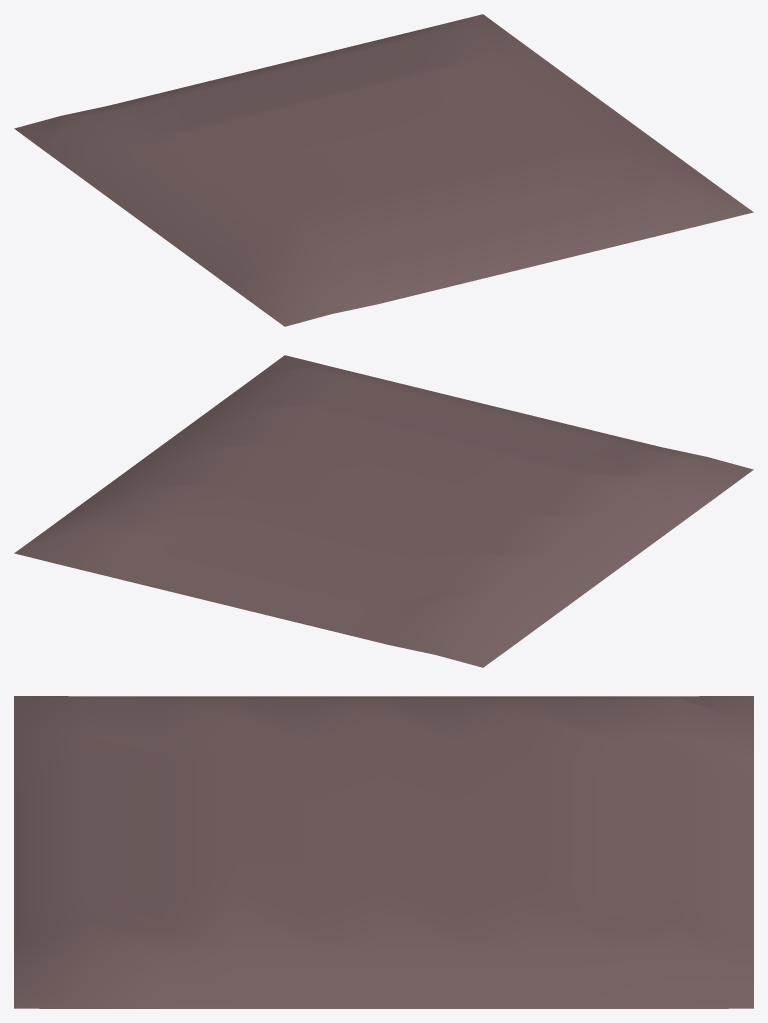
File: Dirt_Patch.fbx
3 views of the same model, one above another, from view 1: azimuth 30°, elevation 25°; view 2: azimuth 150°, elevation 25°; view 3: azimuth 270°, elevation 25° (orthographic). The views are drawn at different scales.
Visible parts, largest first — view 1: pPlane1; view 2: pPlane1; view 3: pPlane1.
Boxes of the visible parts, x1,y1,x2,y2 form: pPlane1: (14,14,753,326); pPlane1: (14,355,753,667); pPlane1: (14,696,753,1008).
Size of the model in its own units: 4.3 by 0.2773 by 4.3.
